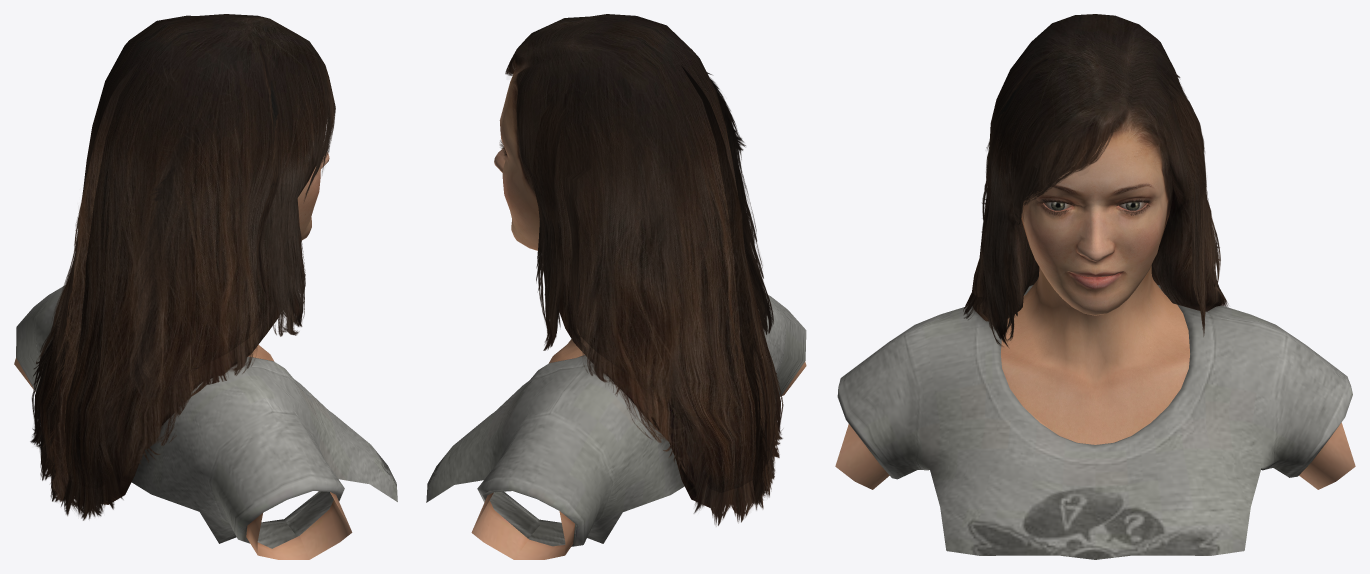
File: head.glb
3 views of the same model, side by side, from view 1: azimuth 30°, elevation 25°; view 2: azimuth 150°, elevation 25°; view 3: azimuth 270°, elevation 25° (orthographic). The views are drawn at different scales.
Parts seen in each view (by area): view 1: HeadMesh; view 2: HeadMesh; view 3: HeadMesh.
Part boxes in pixels (x1,y1,x2,y2): HeadMesh: (14,14,397,559); HeadMesh: (426,14,806,559); HeadMesh: (835,14,1355,559).
Bounding box in the file's own units: 30.13 × 43.33 × 43.85.
Materials: 5 (5 with a texture image).
